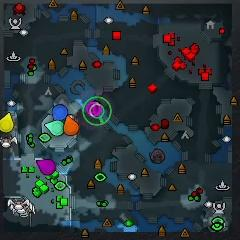Other: (82, 97, 112, 126), (85, 101, 100, 116)
p1: (52, 104, 68, 121)
p2: (44, 120, 64, 136)
p3: (36, 159, 56, 176)
p4: (0, 113, 14, 132)
p5: (63, 116, 80, 136)
